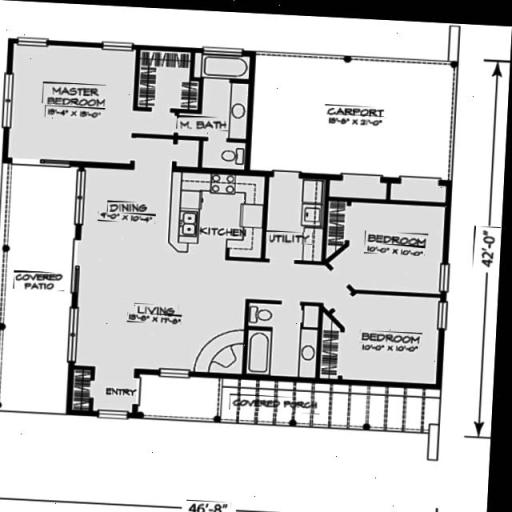Room: (329, 184, 441, 372), (86, 174, 174, 248)
bathroom: (135, 54, 245, 170)
bedroom: (20, 43, 133, 160)
hall: (80, 259, 239, 365)
kitchen: (179, 171, 262, 253)
porch: (255, 60, 446, 175), (142, 372, 444, 439)
